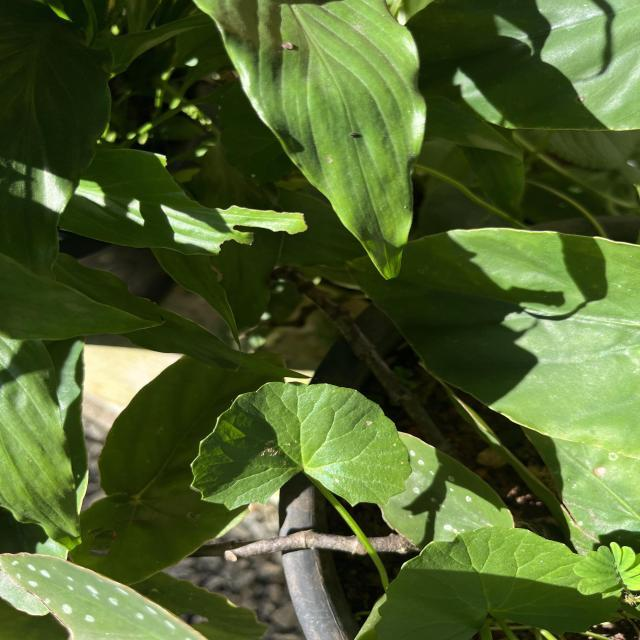Centella asiatica: (186, 380, 414, 512), (371, 524, 625, 640)
